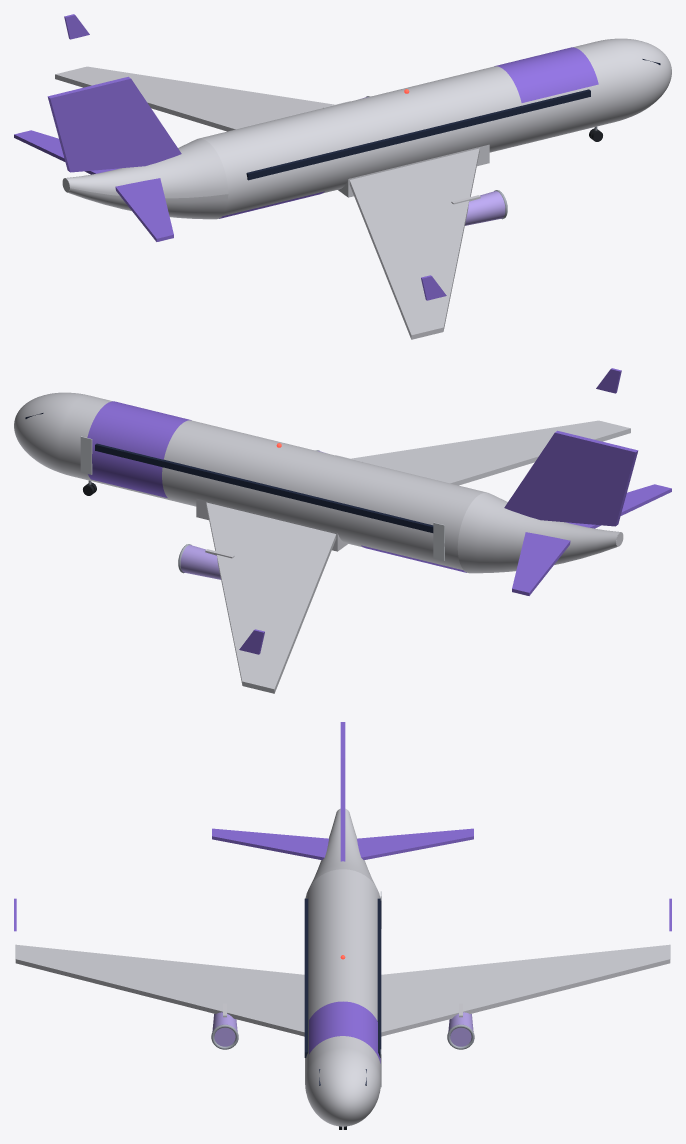
Rendered from widebody-purple.glb.
The picture shows the model from 3 angles, top to bottom: view 1: azimuth 30°, elevation 25°; view 2: azimuth 150°, elevation 25°; view 3: azimuth 270°, elevation 25°; orthographic projection. The views are drawn at different scales.
Parts seen in each view (by area): view 1: Fuselage, WingR, Fin, WingL, TailCone, LiveryBand, Nose, Windows, StabR, NacelleR, StabL, Fairing; view 2: Fuselage, WingL, Fin, WingR, TailCone, LiveryBand, Nose, Windows, StabL, NacelleL, StabR, Fairing; view 3: WingR, WingL, Fuselage, Nose, LiveryBand, StabR, StabL, TailCone, Windows, Fin, NacelleR, NacelleL.
Part boxes in pixels (box(x1,y1,x2,y2)): Fuselage: box(199, 41, 626, 218); WingR: box(349, 148, 479, 339); Fin: box(47, 76, 181, 172); WingL: box(55, 66, 334, 131); TailCone: box(65, 138, 228, 219); LiveryBand: box(494, 47, 598, 102); Nose: box(598, 38, 671, 121); Windows: box(246, 89, 590, 180); StabR: box(115, 178, 173, 241); NacelleR: box(465, 191, 505, 225); StabL: box(14, 130, 119, 174); Fairing: box(338, 144, 489, 197); Fuselage: box(59, 395, 486, 572); WingL: box(206, 502, 336, 693); Fin: box(504, 430, 638, 526); WingR: box(351, 420, 630, 485); TailCone: box(457, 492, 620, 573); LiveryBand: box(87, 401, 191, 497); Nose: box(14, 392, 87, 475); Windows: box(95, 443, 433, 532); StabL: box(512, 532, 570, 595); NacelleL: box(180, 545, 220, 579); StabR: box(566, 484, 671, 528); Fairing: box(196, 498, 347, 551); WingR: box(15, 944, 304, 1036); WingL: box(381, 944, 670, 1036); Fuselage: box(305, 869, 380, 1079); Nose: box(305, 1047, 380, 1126); LiveryBand: box(309, 1001, 380, 1063); StabR: box(212, 828, 328, 859); StabL: box(357, 828, 473, 859); TailCone: box(310, 808, 375, 885); Windows: box(304, 898, 381, 1057); Fin: box(340, 722, 345, 861); NacelleR: box(212, 1012, 237, 1046); NacelleL: box(448, 1012, 473, 1046).
Bounding box in the file's own units: 50.15 × 13.65 × 50.2.
